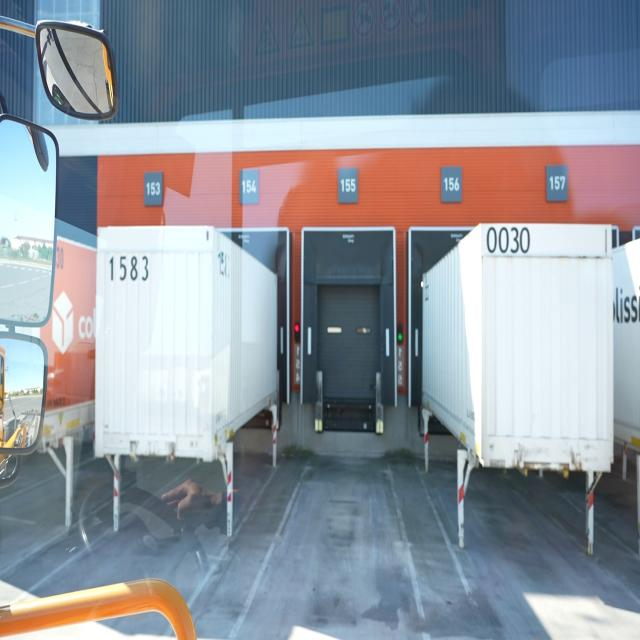Code: (485, 220, 533, 262), (106, 249, 150, 289)
